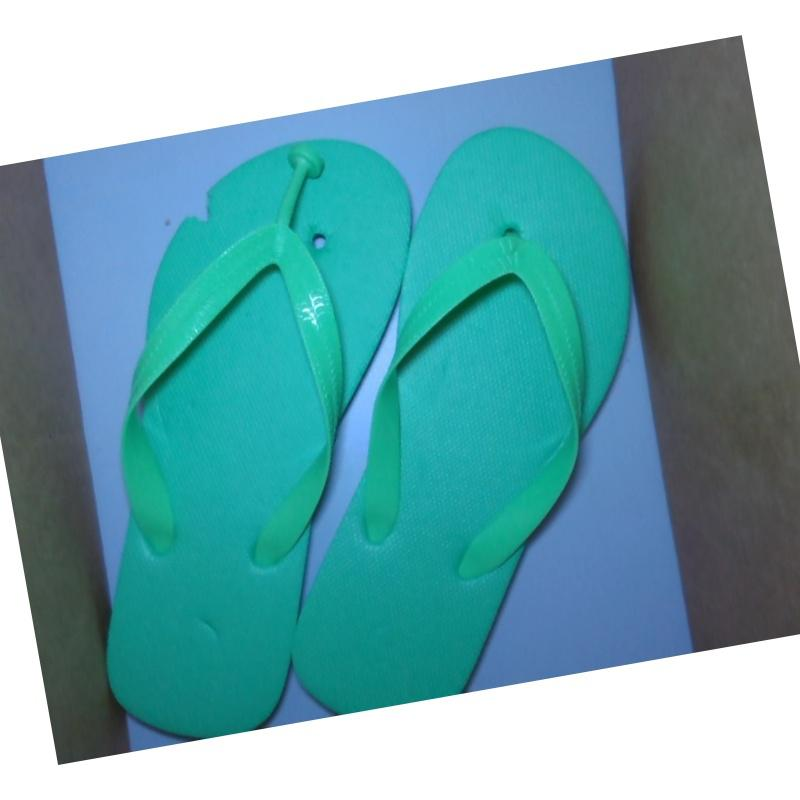chipped: (170, 178, 221, 237)
detached: (280, 136, 336, 202)
